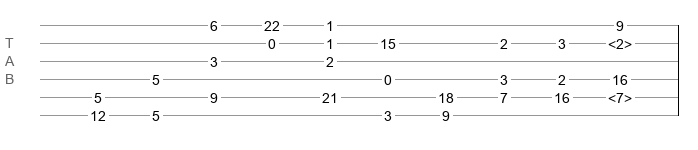0: (268, 36, 276, 46), (384, 72, 392, 82)
1: (326, 18, 334, 28), (326, 36, 334, 46)
12: (90, 108, 106, 118)
15: (380, 36, 396, 46)
16: (554, 90, 570, 100), (612, 72, 628, 82)
18: (438, 90, 454, 100)
2: (326, 54, 334, 64), (500, 36, 508, 46), (558, 72, 566, 82)
21: (322, 90, 338, 100)
22: (264, 18, 280, 28)
3: (210, 54, 218, 64), (384, 108, 392, 118), (500, 72, 508, 82), (558, 36, 566, 46)
5: (94, 90, 102, 100), (152, 108, 160, 118), (152, 72, 160, 82)
6: (210, 18, 218, 28)
7: (500, 90, 508, 100)
9: (210, 90, 218, 100), (442, 108, 450, 118), (616, 18, 624, 28)
harmonic: (608, 36, 632, 46), (608, 90, 632, 100)
